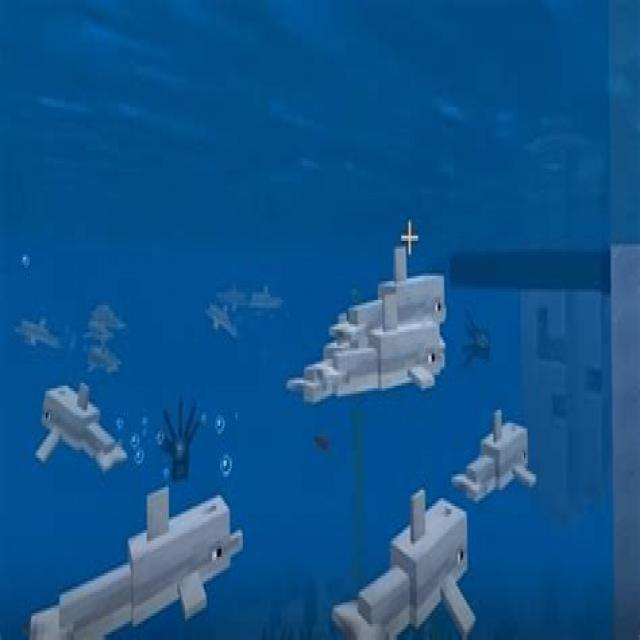Dolphin: (13, 482, 245, 640), (329, 468, 479, 640), (284, 291, 446, 408), (329, 238, 449, 348), (32, 375, 127, 474), (450, 402, 540, 506)
